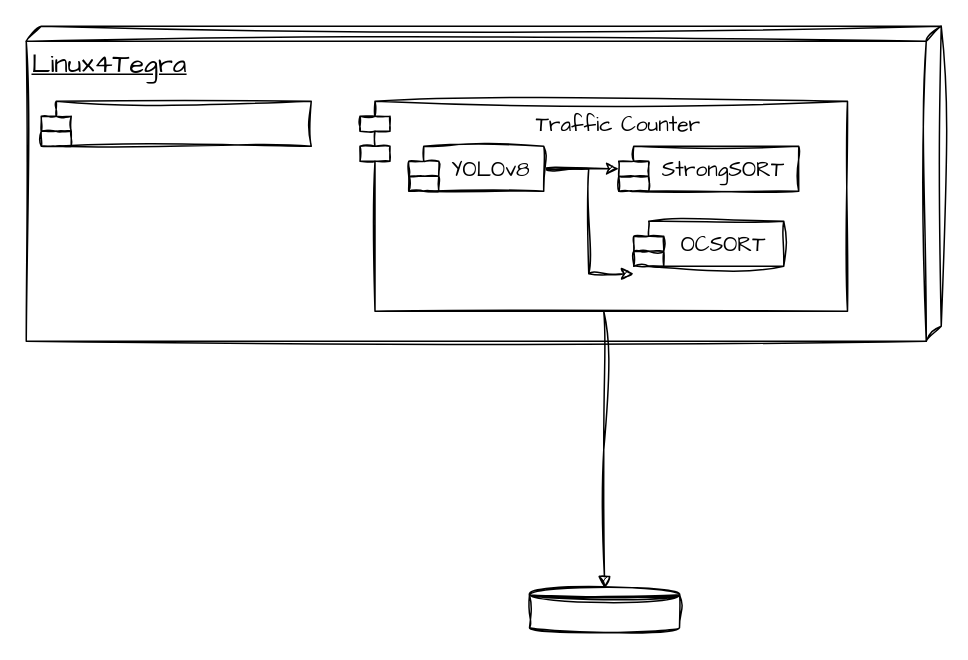
The diagram is 968 pixels wide and 660 high, and some of its shapes have lost their labels. The shapes that lost their labels are listed below. From the top down, each one's centre as x and y in pixels, then its label:
At [175,123]: "Network Interfacing".
At [604,610]: "Data Store".
